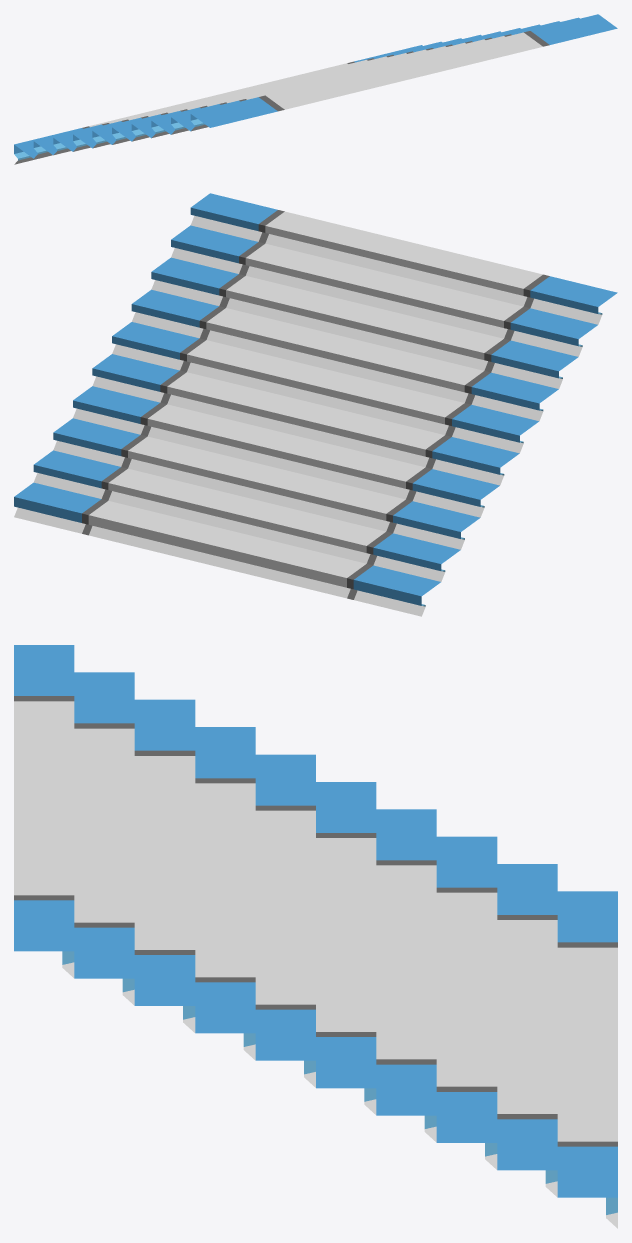
Rendered from StairwaySmall.fbx.
The picture shows the model from 3 angles, top to bottom: view 1: azimuth 30°, elevation 25°; view 2: azimuth 150°, elevation 25°; view 3: azimuth 270°, elevation 25°; orthographic projection. The views are drawn at different scales.
Parts seen in each view (by area): view 1: StairwaySmall; view 2: StairwaySmall; view 3: StairwaySmall.
Part boxes in pixels (x1,y1,x2,y2): StairwaySmall: (14, 14, 617, 164); StairwaySmall: (14, 193, 617, 616); StairwaySmall: (14, 645, 617, 1228).
Size of what is drawn, in the model's own units: 6 by 2.54 by 5.
